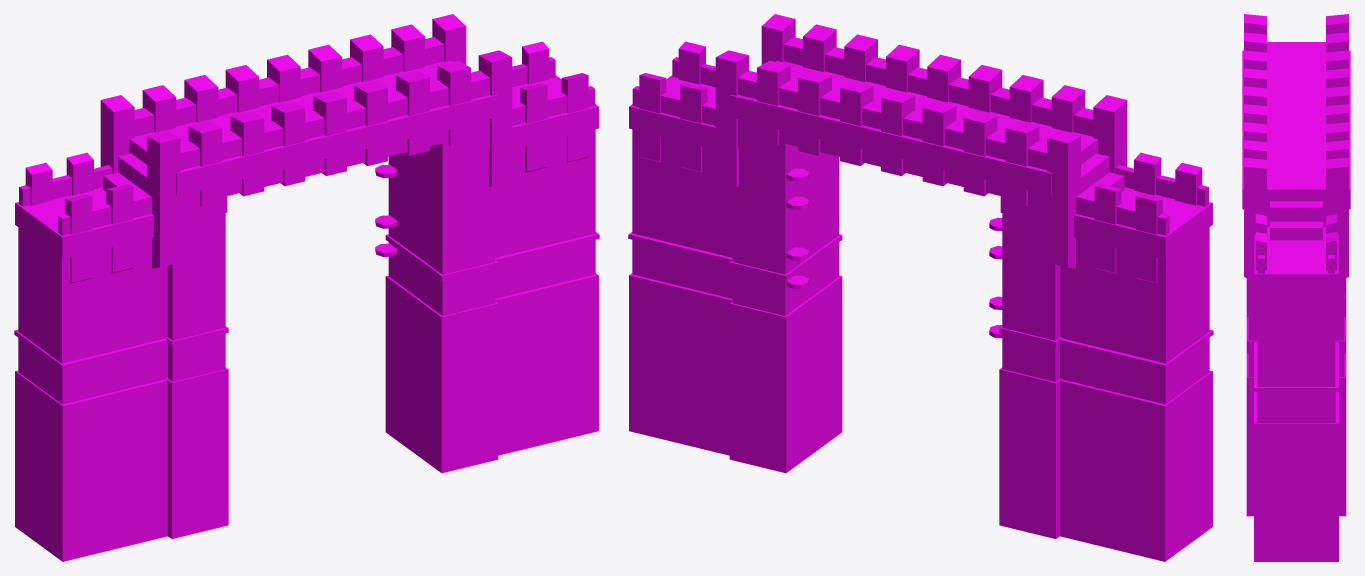
The model's file is athen_wall_gate_struct.glb.
3 views of the same model, side by side, from view 1: azimuth 30°, elevation 25°; view 2: azimuth 150°, elevation 25°; view 3: azimuth 270°, elevation 25° (orthographic). The views are drawn at different scales.
Visible parts, largest first — view 1: body-mesh; view 2: body-mesh; view 3: body-mesh.
Part boxes in pixels (x1=…): body-mesh: x1=14, y1=14, x2=599, y2=561; body-mesh: x1=628, y1=14, x2=1213, y2=561; body-mesh: x1=1242, y1=14, x2=1350, y2=561.
Bounding box in the file's own units: 36.28 × 25.85 × 7.12.
